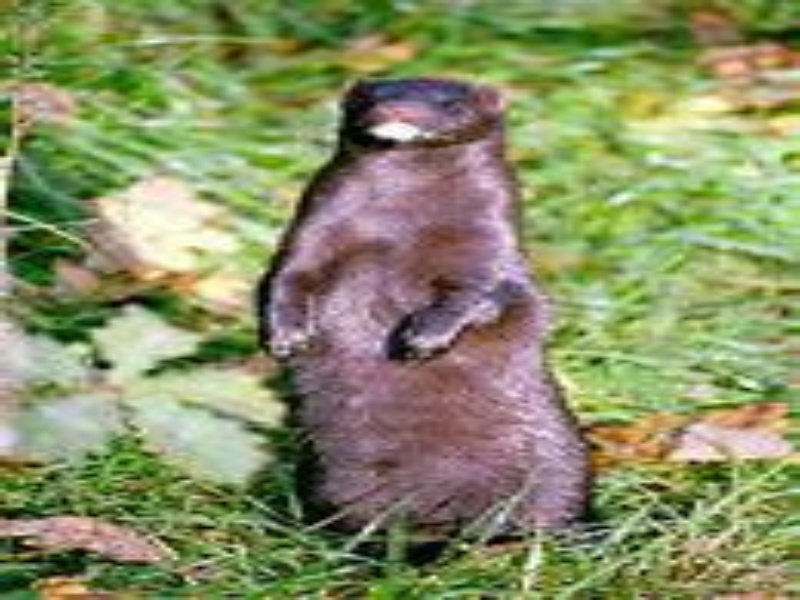minkish: (250, 68, 602, 546)
